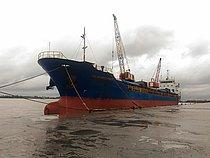Ship: (37, 13, 188, 118)
